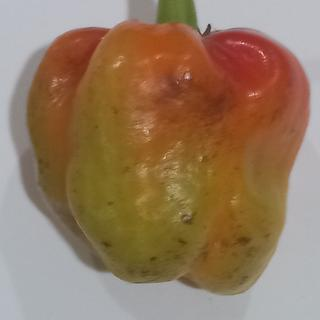Fly-bites: (98, 235, 114, 251), (179, 212, 194, 228), (146, 251, 162, 266), (103, 196, 118, 210), (177, 234, 190, 250)
